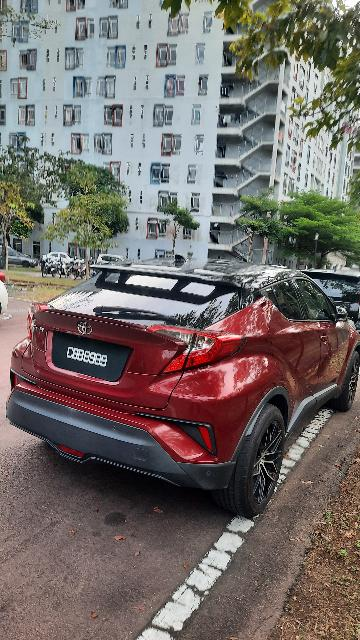License_Plate: (45, 329, 140, 386)
car: (1, 253, 360, 519)
